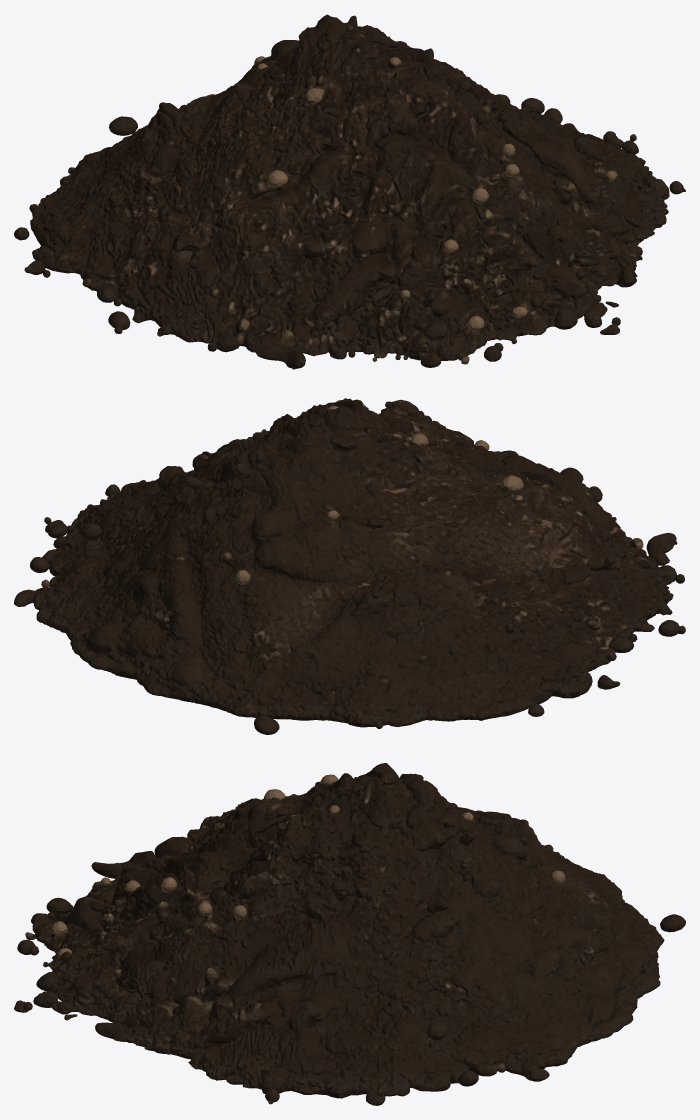
Rendered from lod_basic_pbr.fbx.
The picture shows the model from 3 angles, top to bottom: view 1: azimuth 30°, elevation 25°; view 2: azimuth 150°, elevation 25°; view 3: azimuth 270°, elevation 25°; orthographic projection.
Parts seen in each view (by area): view 1: model_LOD0; view 2: model_LOD0; view 3: model_LOD0.
Part boxes in pixels (box(x1,y1,x2,y2)): model_LOD0: box(14, 14, 685, 369); model_LOD0: box(14, 398, 685, 734); model_LOD0: box(14, 763, 685, 1105).
Size of what is drawn, in the model's own units: 192 by 62.47 by 190.
Materials: 1 (1 with a texture image).
